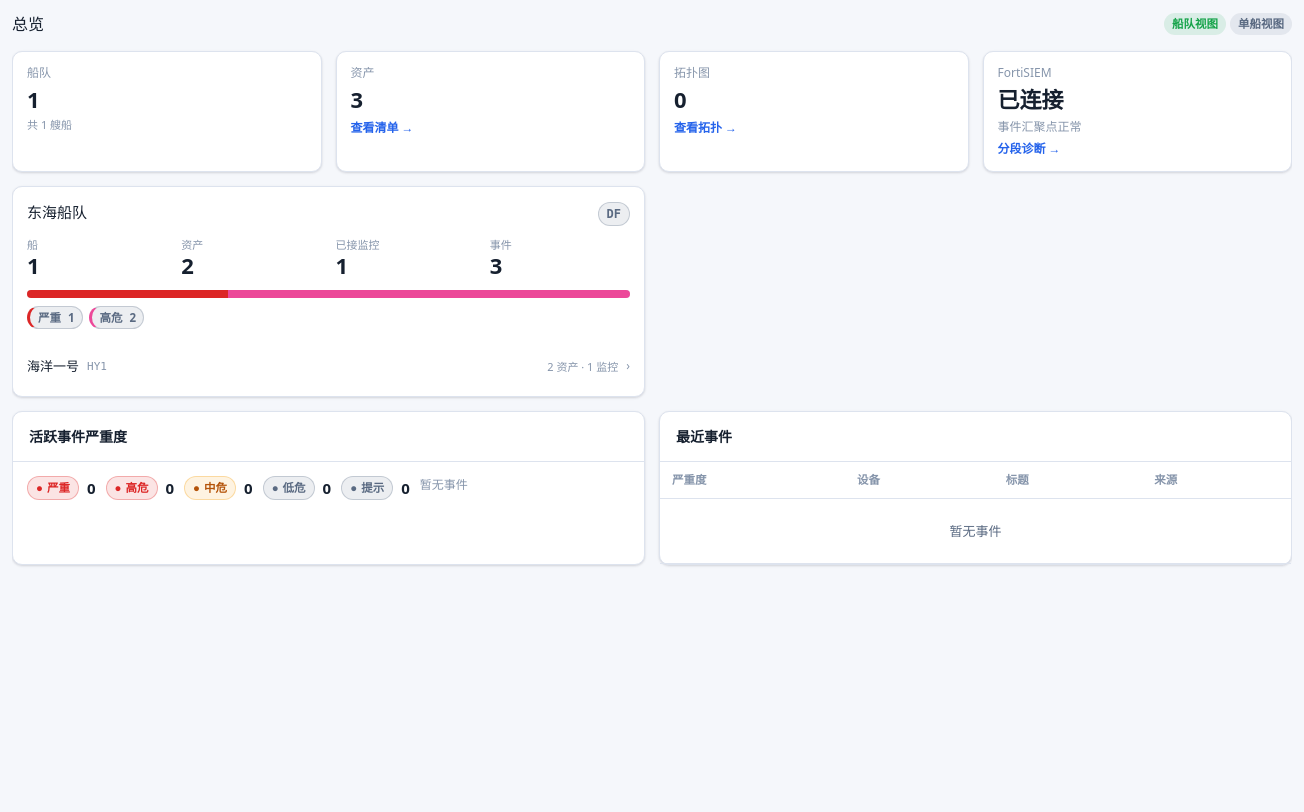
Scenario: 总览 · 船队视图 / 单船视图 › 点船名切到单船视图 —— 显示那艘船的设备
Click the text "海洋一号" at (53, 366), box [27, 356, 79, 376]
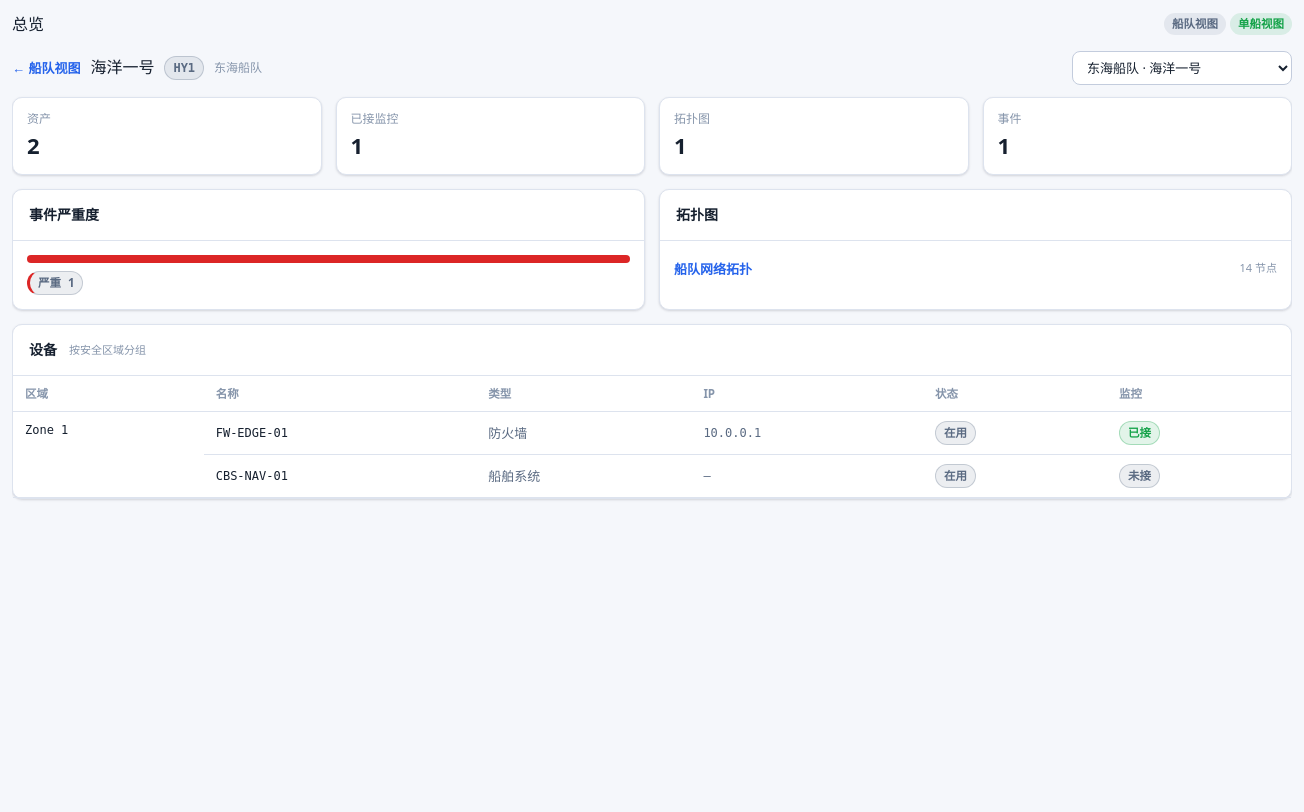
Expected: the text "FW-EDGE-01" is shown, [204, 412, 476, 455]
Expected: the text "CBS-NAV-01" is shown, [204, 455, 476, 498]
Expected: the button "← 船队视图" is shown, [12, 58, 80, 78]
